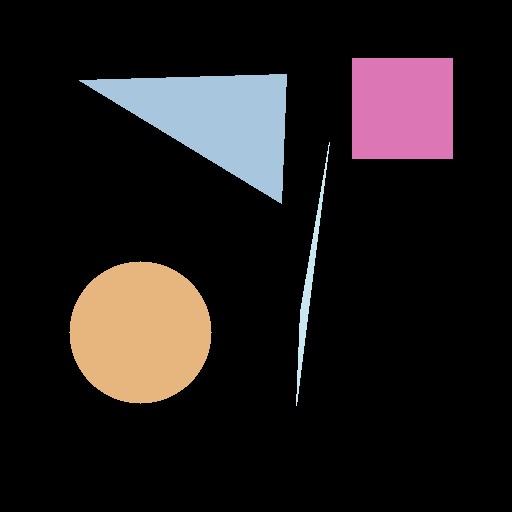circle: (69, 261, 211, 403)
square: (352, 58, 452, 158)
triangle: (79, 74, 286, 203)
